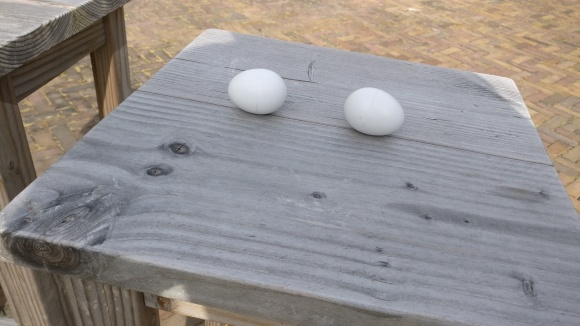egg: (344, 87, 405, 137), (227, 68, 289, 115)
